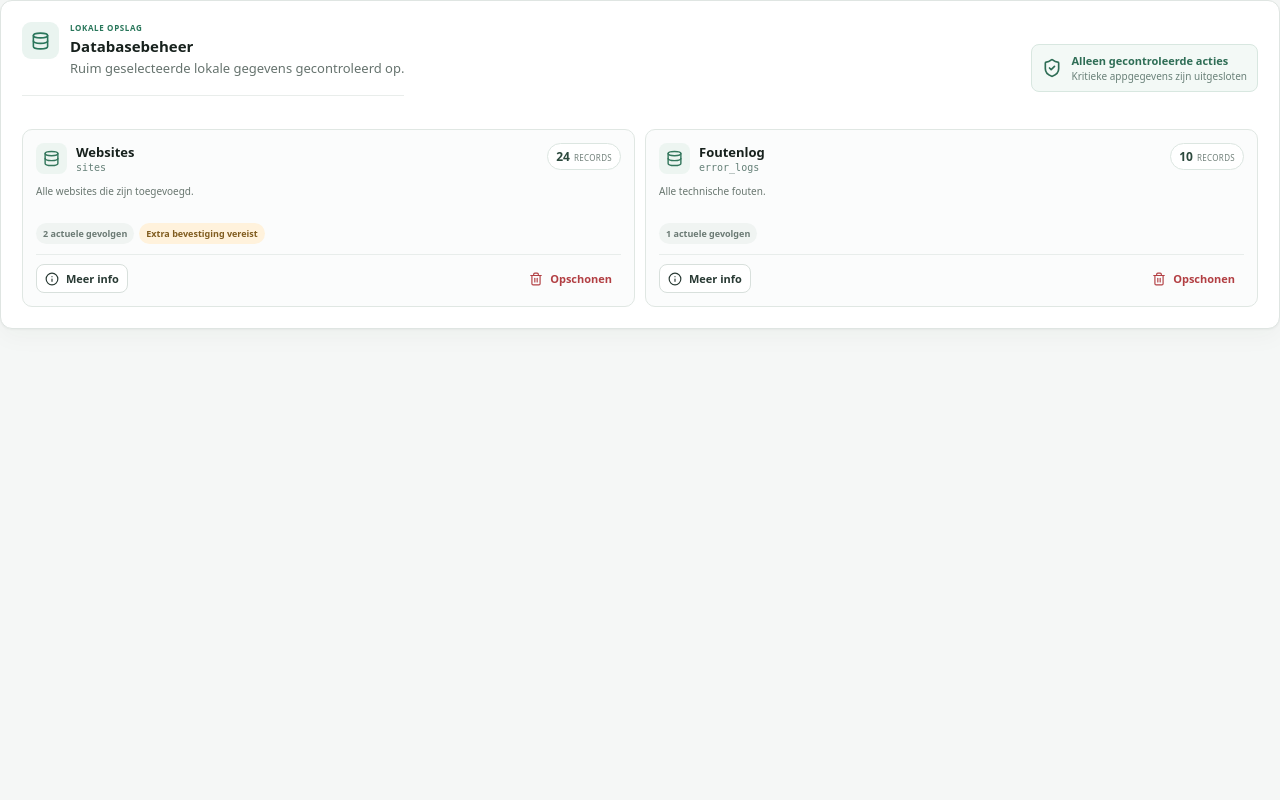
Test: DatabaseCleanup › refreshes the confirmation counts after a stale preview is rejected
Click the button with class "database-cleanup-action" below "10".
click(1194, 278)  # box 1143,264 -> 1244,293
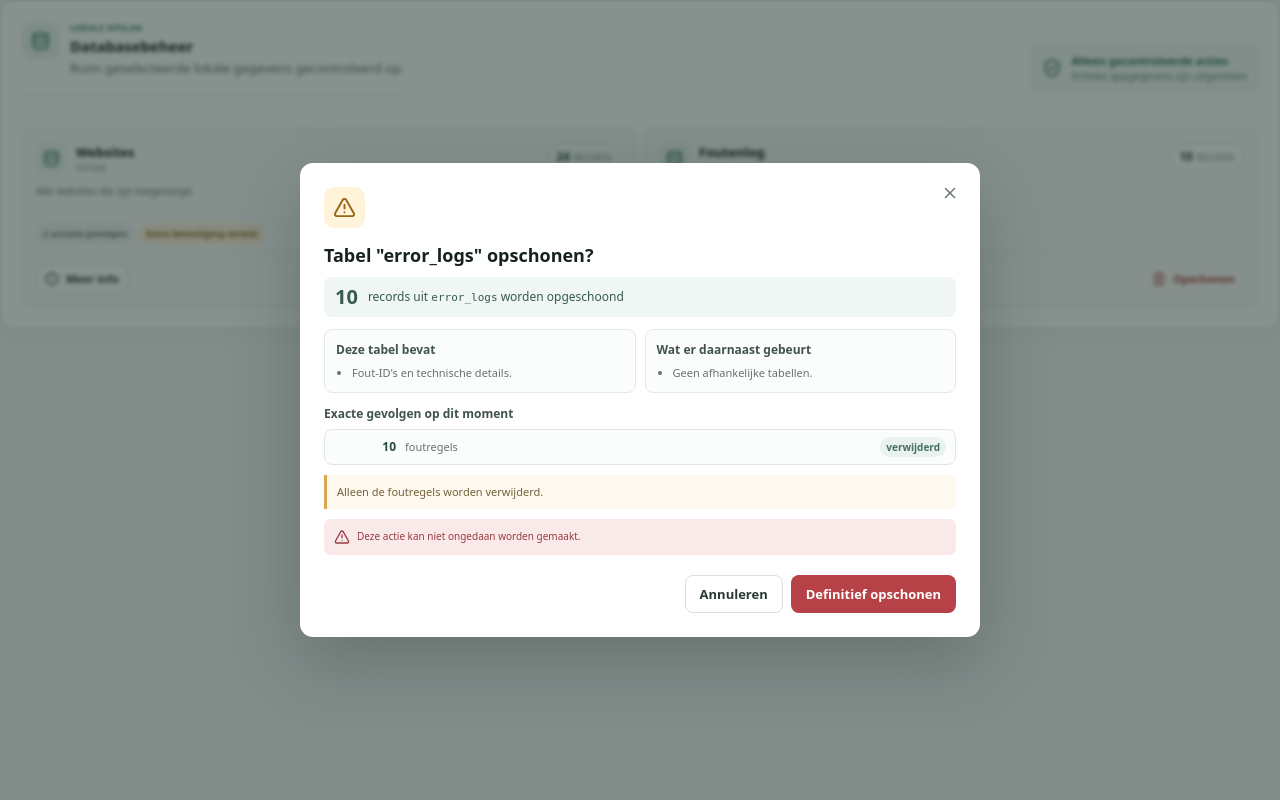
Click the button with class "danger".
click(873, 594)  # box 791,575 -> 956,613
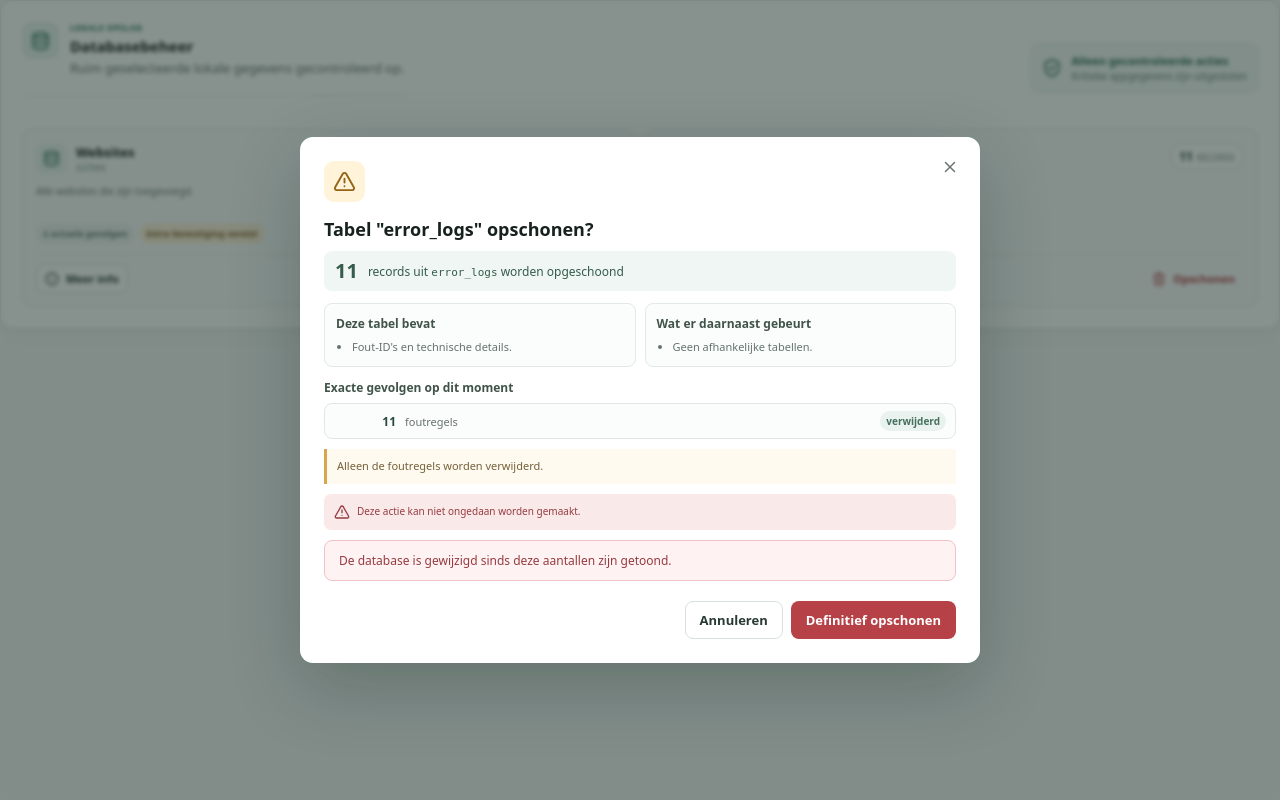
Expected: the text "De database is gewijzigd sinds deze aantallen zijn getoond." is shown, 324,540 -> 956,581
Expected: the text "11" next to "records uit" is shown, 335,257 -> 358,284
